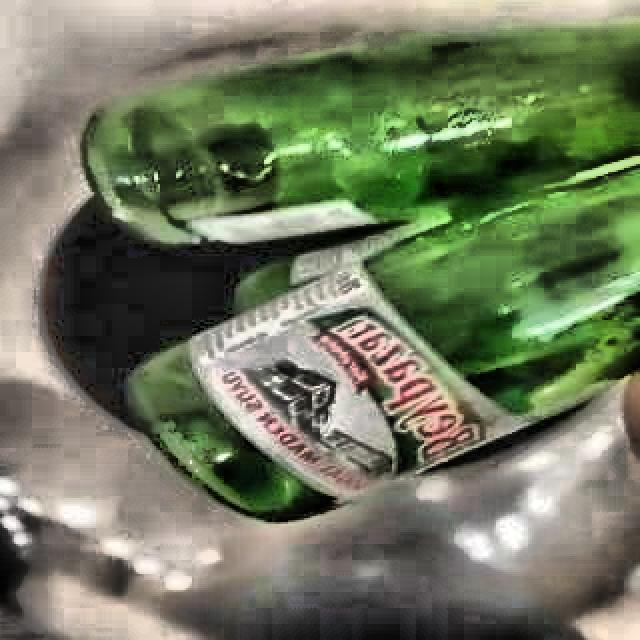glass: (80, 22, 640, 522), (80, 21, 640, 521)
